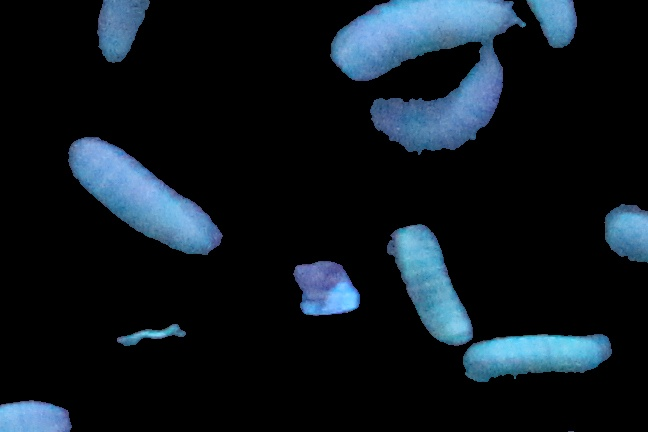larvae: (65, 134, 223, 257), (368, 46, 506, 155), (331, 1, 527, 74), (388, 220, 469, 342), (461, 330, 612, 381), (95, 1, 155, 70)
